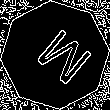M_SW: (21, 21, 89, 89)
